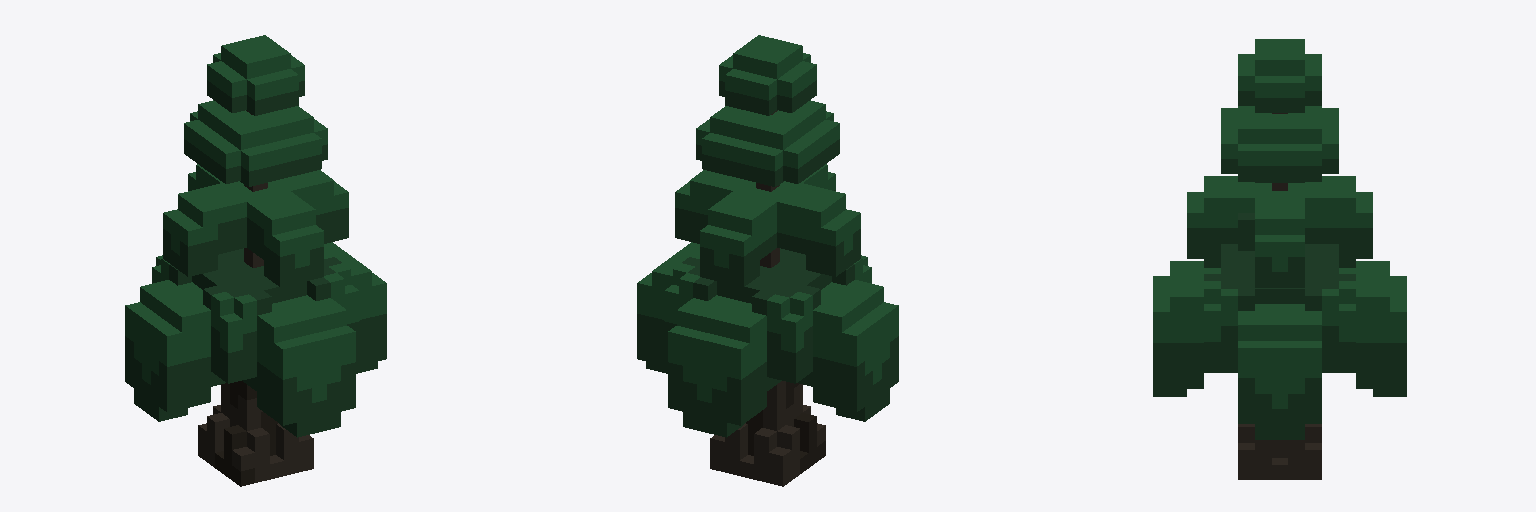
3 views of the same model, side by side, from view 1: azimuth 30°, elevation 25°; view 2: azimuth 150°, elevation 25°; view 3: azimuth 270°, elevation 25° (orthographic).
Visible parts, largest first — view 1: large_pine_tree_2; view 2: large_pine_tree_2; view 3: large_pine_tree_2.
Part boxes in pixels (bbox=[...]): large_pine_tree_2: bbox=[125, 35, 386, 486]; large_pine_tree_2: bbox=[637, 35, 898, 486]; large_pine_tree_2: bbox=[1153, 39, 1406, 479].
Size of the model in its own units: 15 by 27 by 15.
Materials: 1 (1 with a texture image).